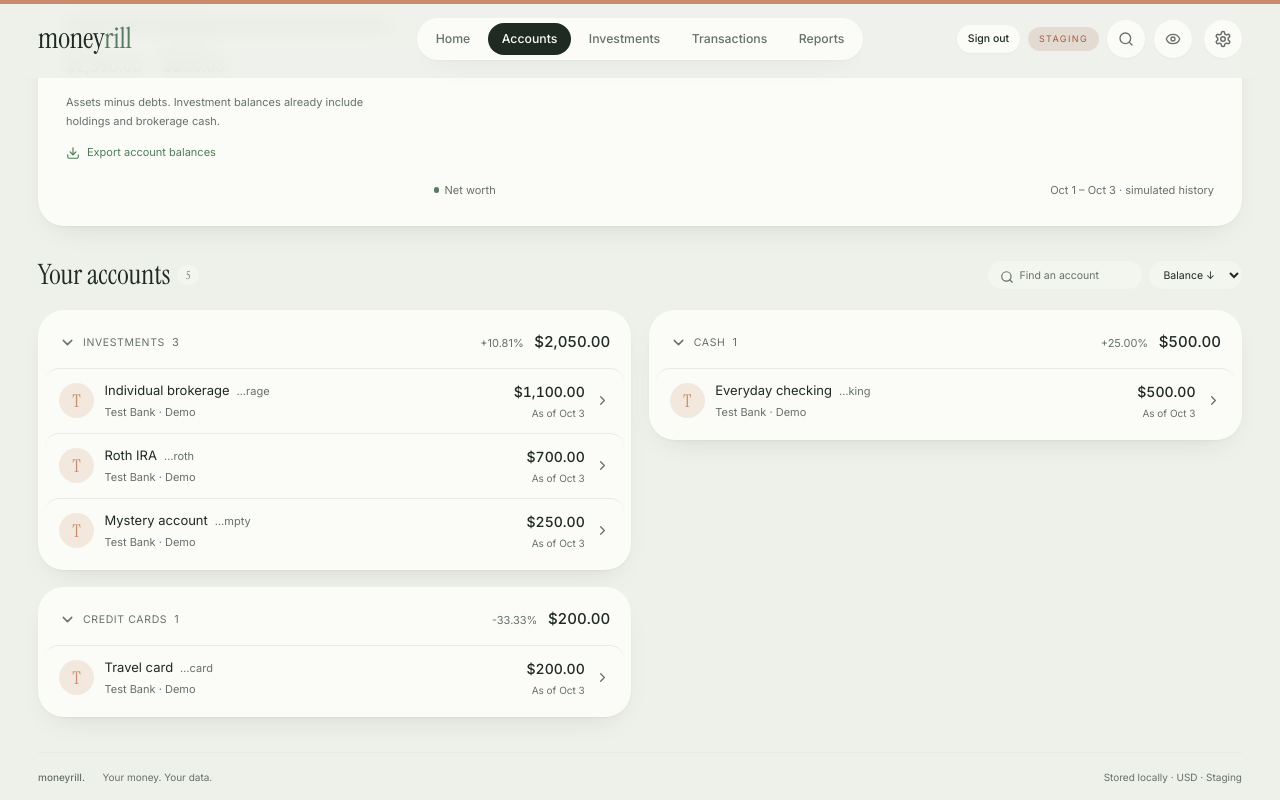
Test: Accounts page › an account that is fine has no Reconnect tag, and a click opens its page
(page scrolled)
Step 1. Click the button "Individual brokerage" → [76, 401], box x1=45 y1=368 x2=624 y2=433
(page scrolled)
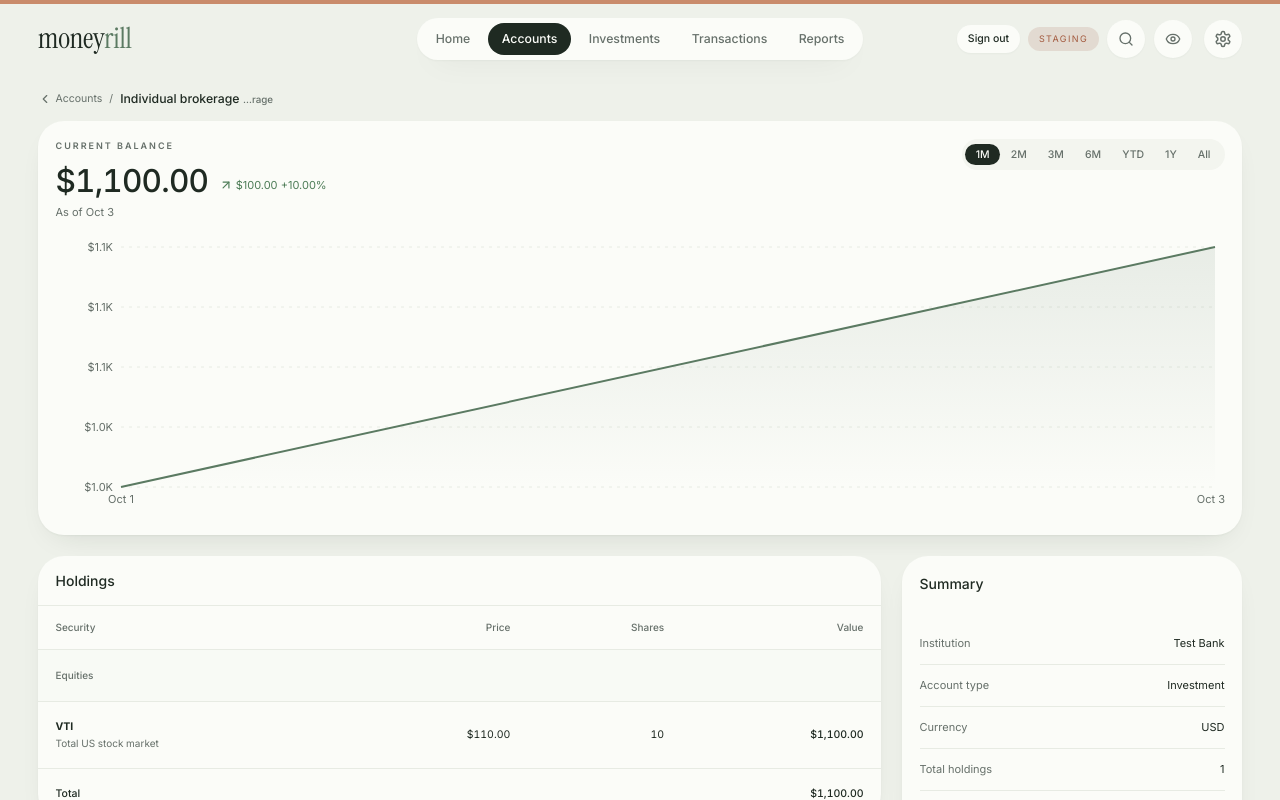
Now the navigation bar named "Breadcrumb" is shown, box x1=38 y1=91 x2=273 y2=106
